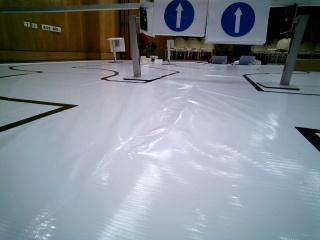straight: (211, 0, 267, 45), (151, 0, 204, 36)
